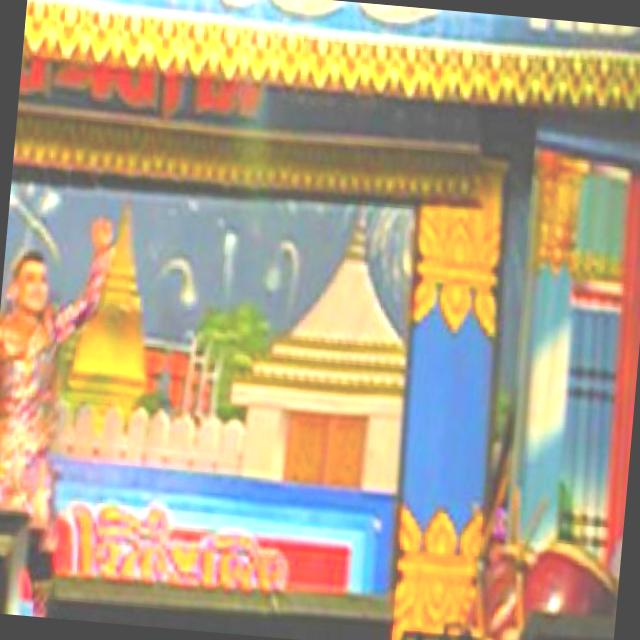Person: (0, 210, 106, 617)
